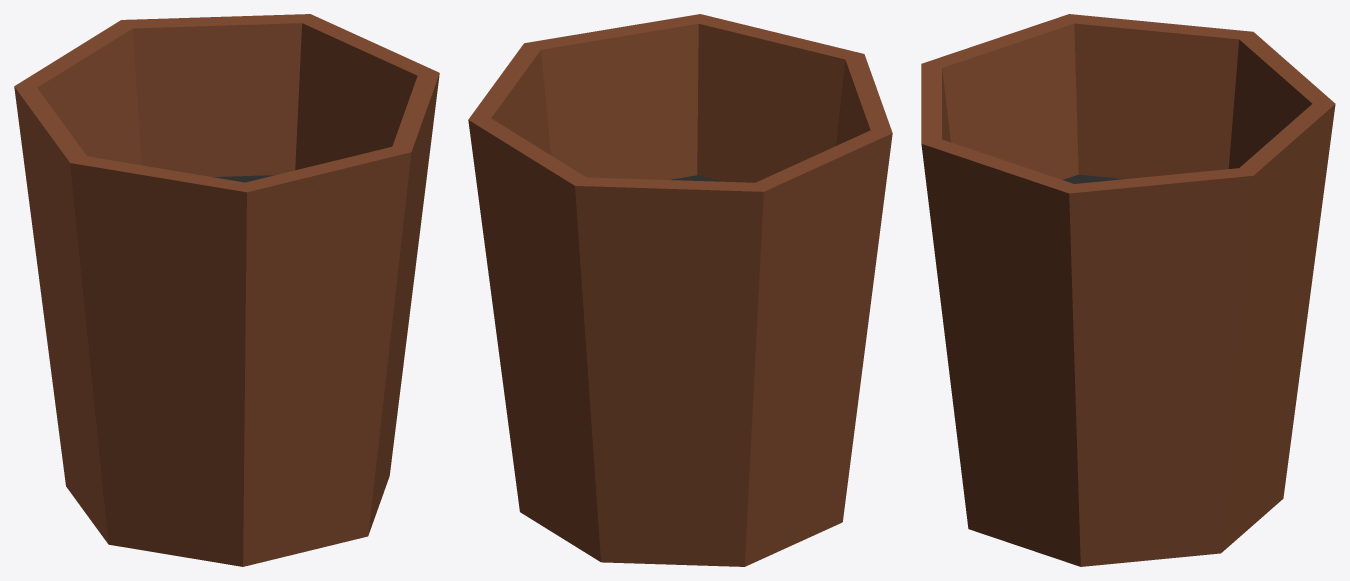
The model's file is LP_PostApoc_Bucket.fbx.
3 renders of one model, left to right at view 1: azimuth 30°, elevation 25°; view 2: azimuth 150°, elevation 25°; view 3: azimuth 270°, elevation 25°, orthographic.
Parts seen in each view (by area): view 1: Bucket; view 2: Bucket; view 3: Bucket.
Boxes of the visible parts, x1=… form: Bucket: x1=14, y1=14, x2=439, y2=566; Bucket: x1=468, y1=14, x2=892, y2=566; Bucket: x1=921, y1=14, x2=1335, y2=566.
Bounding box in the file's own units: 64.85 × 66.52 × 63.23.
